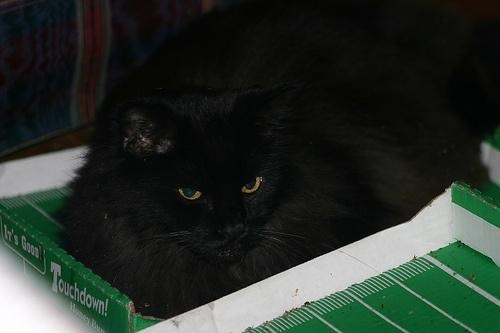cat: (61, 9, 482, 309)
